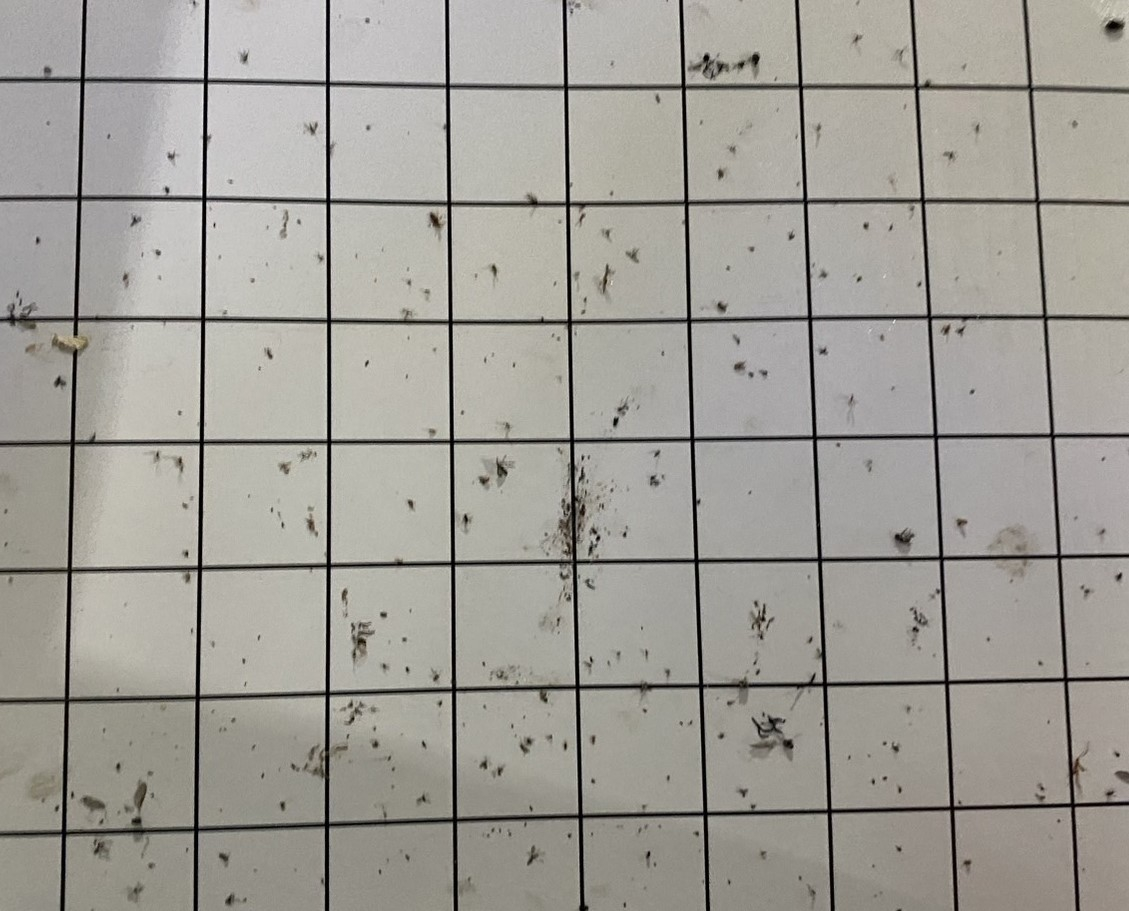test: (49, 330, 94, 357), (494, 452, 517, 479), (891, 526, 916, 549), (600, 262, 617, 295), (794, 671, 819, 693), (427, 210, 447, 234), (1103, 16, 1125, 37), (525, 843, 543, 867), (304, 514, 321, 539), (625, 245, 643, 267), (636, 679, 655, 698), (301, 120, 319, 138), (939, 322, 956, 340), (148, 448, 165, 465), (235, 49, 252, 66), (275, 459, 292, 476), (500, 420, 516, 437), (749, 49, 765, 66), (476, 473, 494, 488), (525, 194, 540, 212), (127, 213, 143, 229), (732, 359, 748, 375), (223, 892, 238, 909), (399, 306, 416, 321), (955, 516, 969, 534), (6, 311, 20, 329), (780, 737, 795, 752), (573, 211, 588, 226), (583, 577, 598, 592), (52, 374, 66, 390), (355, 634, 371, 648), (646, 473, 662, 487), (851, 31, 865, 47), (488, 262, 501, 279), (845, 392, 860, 406), (942, 147, 957, 161), (263, 344, 275, 361), (1080, 582, 1092, 599), (120, 270, 131, 288), (817, 344, 831, 358), (42, 64, 56, 78), (426, 425, 439, 440), (538, 689, 551, 704), (922, 78, 935, 93), (1103, 788, 1118, 801), (165, 149, 178, 163), (731, 333, 744, 347), (602, 226, 615, 240), (699, 51, 713, 64), (956, 324, 968, 339), (735, 58, 747, 73), (716, 167, 727, 183), (339, 586, 350, 602), (130, 813, 143, 826), (518, 742, 531, 755), (345, 714, 358, 727), (174, 455, 186, 469), (716, 300, 728, 314), (87, 431, 98, 446), (314, 249, 325, 264), (461, 512, 473, 525), (217, 852, 229, 865), (431, 671, 443, 684), (403, 276, 415, 289), (202, 132, 215, 144), (911, 624, 923, 637), (891, 741, 902, 755), (663, 666, 673, 681), (152, 247, 164, 259), (478, 759, 490, 771), (416, 792, 428, 804), (130, 885, 142, 897), (693, 496, 705, 508), (495, 765, 506, 778), (92, 842, 103, 855), (1114, 570, 1125, 583), (819, 267, 829, 281), (578, 503, 588, 517), (584, 654, 595, 666), (361, 15, 373, 26), (723, 263, 734, 275), (1070, 117, 1081, 129), (817, 648, 828, 660), (371, 738, 381, 751), (654, 92, 664, 105), (787, 229, 797, 242), (588, 525, 601, 535), (611, 414, 620, 428), (393, 559, 404, 570), (545, 733, 556, 744), (726, 698, 737, 709), (746, 244, 757, 255), (967, 387, 978, 398), (181, 501, 191, 513), (113, 761, 123, 773), (524, 735, 534, 747), (642, 647, 652, 659), (738, 787, 750, 797), (652, 446, 662, 458), (1098, 526, 1108, 538), (745, 487, 755, 499), (1038, 792, 1048, 804), (278, 800, 287, 813), (538, 314, 547, 327), (973, 122, 982, 135), (33, 235, 43, 246), (406, 498, 416, 509), (361, 358, 372, 368), (183, 572, 193, 583), (68, 790, 78, 801), (614, 648, 624, 659), (644, 850, 654, 861), (717, 731, 727, 742), (748, 802, 758, 813), (753, 667, 763, 678), (932, 586, 943, 596), (759, 367, 769, 378), (854, 274, 864, 285), (441, 122, 452, 132), (263, 222, 273, 233), (270, 202, 281, 212), (352, 251, 362, 262), (607, 188, 617, 199), (579, 201, 589, 212), (983, 634, 993, 645), (2, 504, 11, 516), (53, 803, 62, 815), (561, 739, 570, 751), (589, 734, 598, 746), (895, 784, 904, 796), (963, 856, 971, 869), (288, 761, 298, 771), (904, 704, 914, 714), (748, 370, 758, 380), (833, 440, 843, 450), (17, 298, 27, 308), (814, 122, 824, 132), (959, 62, 969, 72), (869, 777, 879, 787), (181, 549, 192, 558), (378, 610, 389, 619), (382, 810, 391, 821), (694, 829, 703, 840), (687, 717, 696, 728), (363, 121, 372, 132), (162, 184, 171, 195), (472, 270, 481, 281), (226, 176, 235, 187), (371, 274, 380, 285), (697, 117, 706, 128), (1036, 659, 1045, 670), (878, 332, 886, 344), (295, 217, 304, 227), (403, 664, 412, 674), (381, 662, 390, 672), (521, 820, 530, 830), (99, 726, 109, 735), (229, 715, 238, 725), (146, 769, 156, 778), (481, 701, 490, 711), (605, 657, 614, 667), (806, 635, 815, 645), (620, 530, 629, 540), (759, 849, 769, 858), (886, 223, 895, 233), (916, 279, 925, 289), (430, 344, 440, 353), (44, 119, 53, 129), (567, 180, 576, 190), (1038, 783, 1048, 792), (956, 798, 965, 808), (889, 383, 897, 394), (659, 348, 667, 359), (422, 286, 430, 297), (375, 867, 384, 876), (508, 722, 517, 731), (641, 706, 650, 715), (895, 844, 904, 853), (581, 295, 590, 304), (551, 278, 560, 287), (793, 179, 802, 188), (211, 220, 219, 230), (139, 250, 147, 260), (209, 640, 217, 650), (480, 658, 488, 668), (98, 817, 106, 827), (319, 876, 327, 886), (520, 713, 528, 723), (580, 307, 588, 317), (510, 359, 518, 369), (752, 598, 760, 608), (308, 562, 314, 575), (622, 900, 629, 911), (268, 505, 276, 514), (248, 277, 257, 285), (215, 252, 223, 261), (6, 576, 14, 585), (590, 777, 599, 785), (638, 624, 646, 633), (665, 773, 673, 782), (579, 453, 587, 462), (797, 874, 805, 883), (881, 739, 889, 748), (862, 221, 871, 229), (222, 309, 230, 318), (403, 371, 411, 380), (105, 131, 113, 140), (14, 289, 22, 298), (608, 59, 617, 67), (404, 264, 412, 273), (1100, 454, 1108, 463), (594, 533, 602, 542), (401, 634, 408, 644), (156, 273, 163, 283), (404, 853, 411, 863), (420, 738, 427, 748), (528, 803, 535, 813), (176, 408, 184, 416), (437, 698, 445, 706), (507, 830, 515, 838), (489, 825, 497, 833), (406, 607, 414, 615), (183, 845, 191, 853), (677, 719, 685, 727), (458, 408, 466, 416), (405, 333, 413, 341), (908, 204, 916, 212), (279, 520, 286, 529), (240, 656, 247, 665), (256, 633, 263, 642), (188, 625, 195, 634), (386, 753, 393, 762), (389, 765, 396, 774), (641, 802, 648, 811), (256, 363, 263, 372), (482, 355, 489, 364), (846, 753, 853, 762), (259, 770, 265, 780), (250, 743, 258, 750), (372, 725, 379, 733), (566, 832, 573, 840), (726, 878, 733, 886), (772, 74, 780, 81), (881, 774, 888, 782), (1114, 750, 1122, 757), (4, 540, 10, 549), (497, 827, 504, 834), (460, 721, 467, 728), (242, 679, 248, 687), (114, 686, 120, 693), (1056, 817, 1062, 824), (345, 732, 351, 738)
